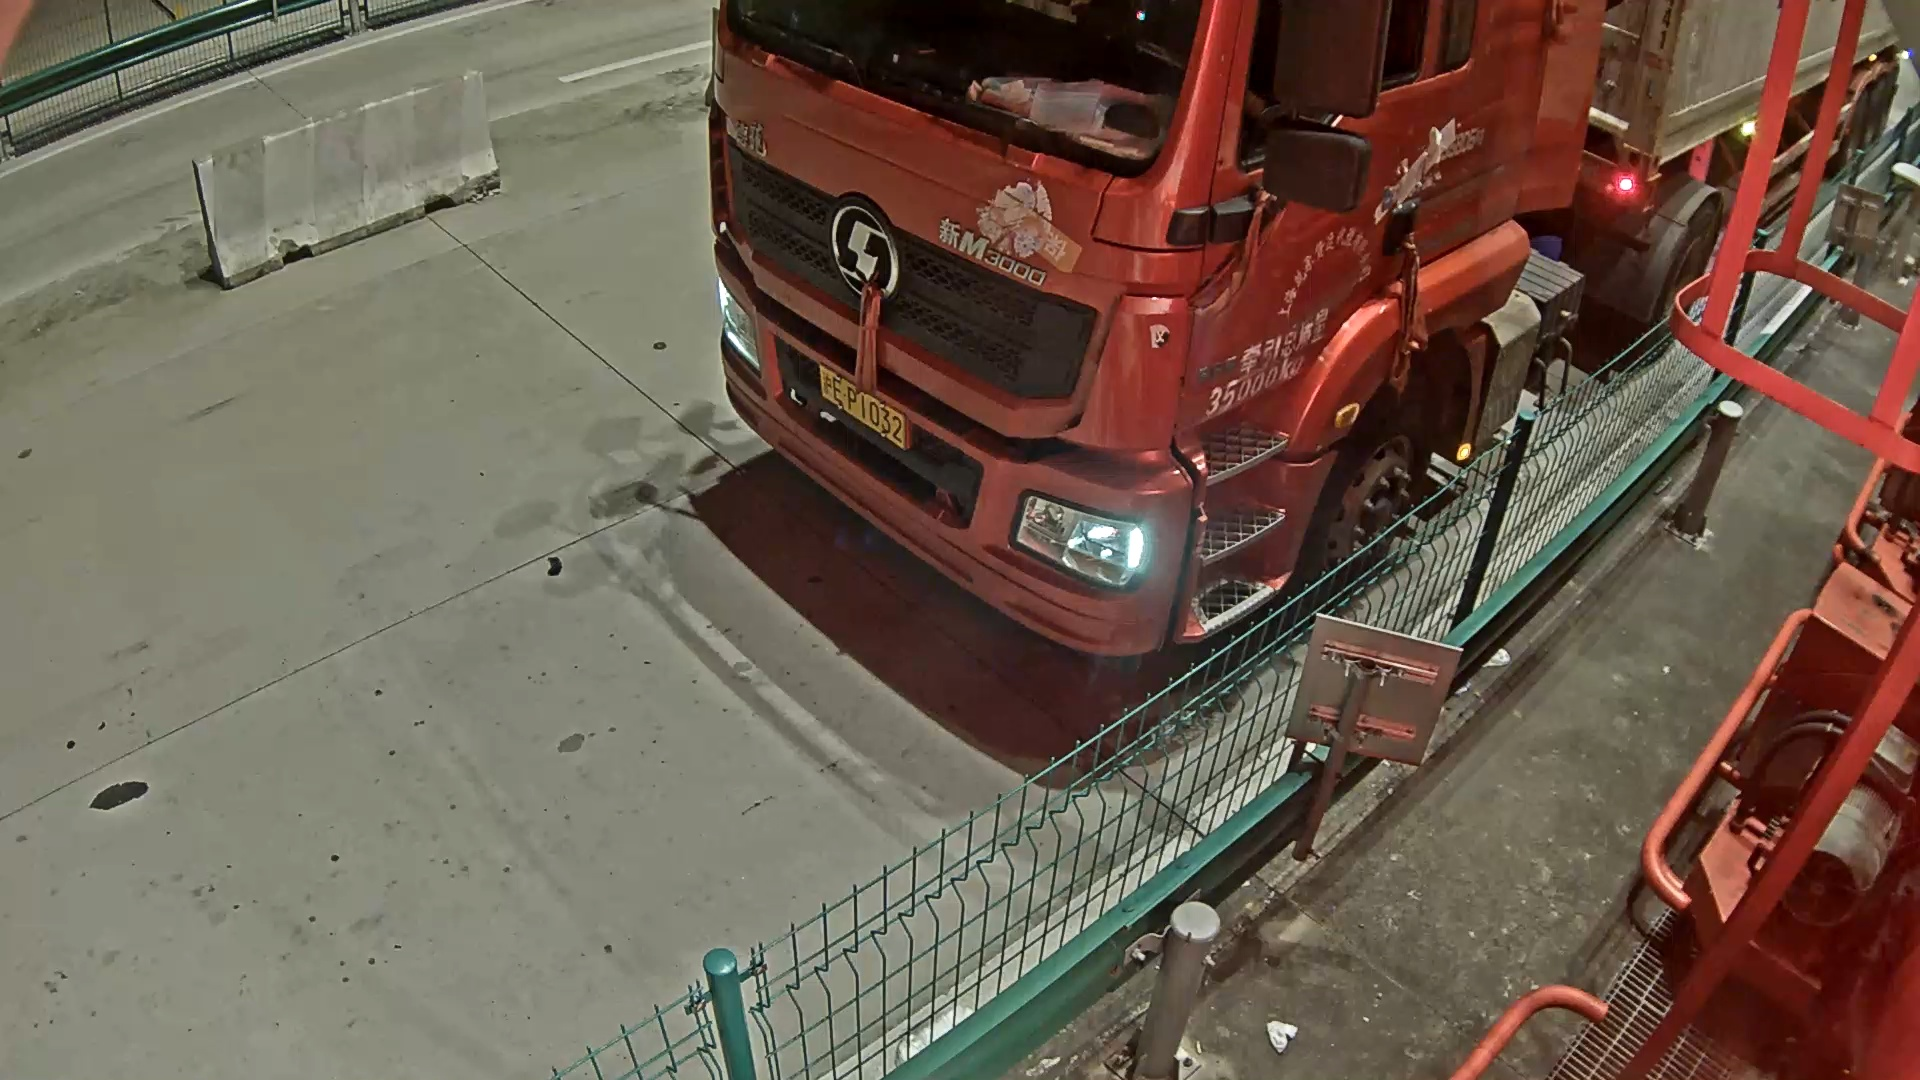head: (702, 17, 1266, 672)
plate: (809, 359, 924, 447)
